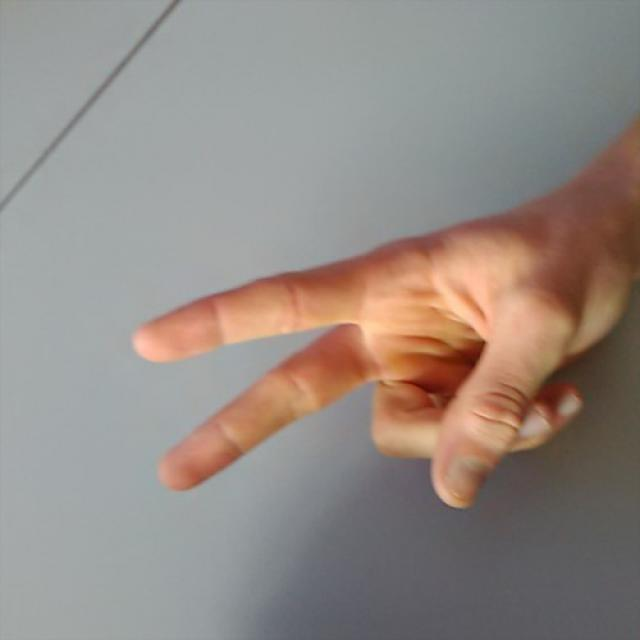scissors: (134, 216, 612, 509)
